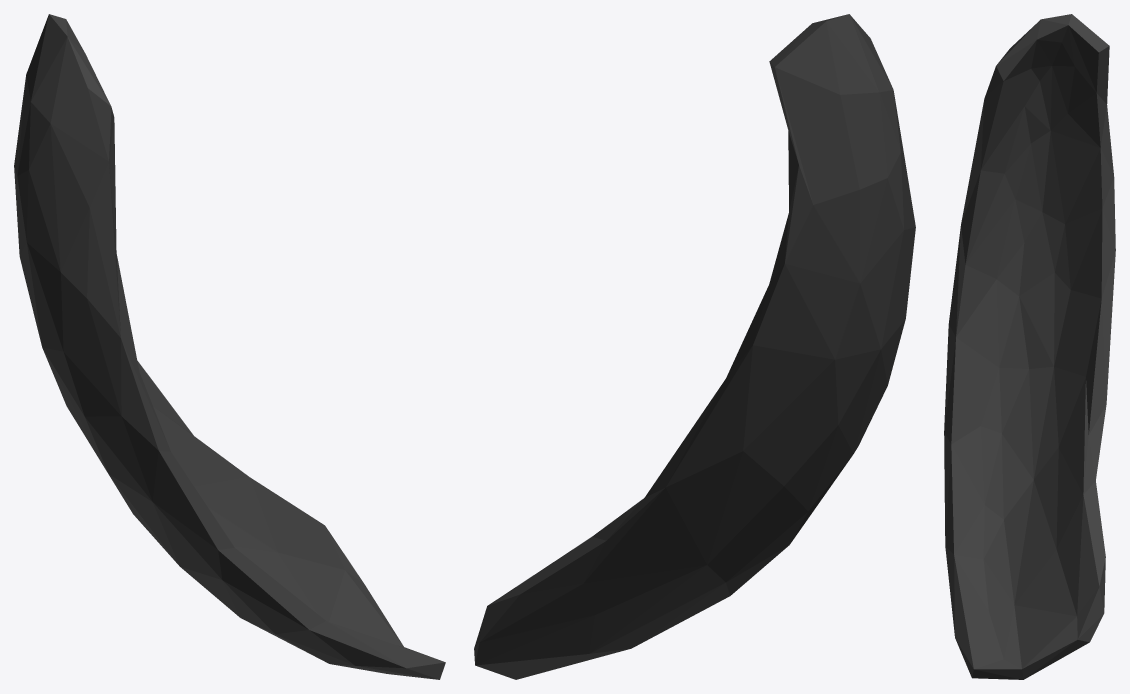
Rendered from Femur_trochlea_medial_ridge.glb.
3 renders of one model, left to right at view 1: azimuth 30°, elevation 25°; view 2: azimuth 150°, elevation 25°; view 3: azimuth 270°, elevation 25°, orthographic. The views are drawn at different scales.
Parts seen in each view (by area): view 1: Femur_trochlea_medial_ridge; view 2: Femur_trochlea_medial_ridge; view 3: Femur_trochlea_medial_ridge.
Boxes of the visible parts, x1,y1,x2,y2 form: Femur_trochlea_medial_ridge: (14, 14, 445, 679); Femur_trochlea_medial_ridge: (474, 14, 915, 679); Femur_trochlea_medial_ridge: (944, 14, 1115, 679).
Bounding box in the file's own units: 0.0224 × 0.0396 × 0.0113.
1 material, 1 textured.
